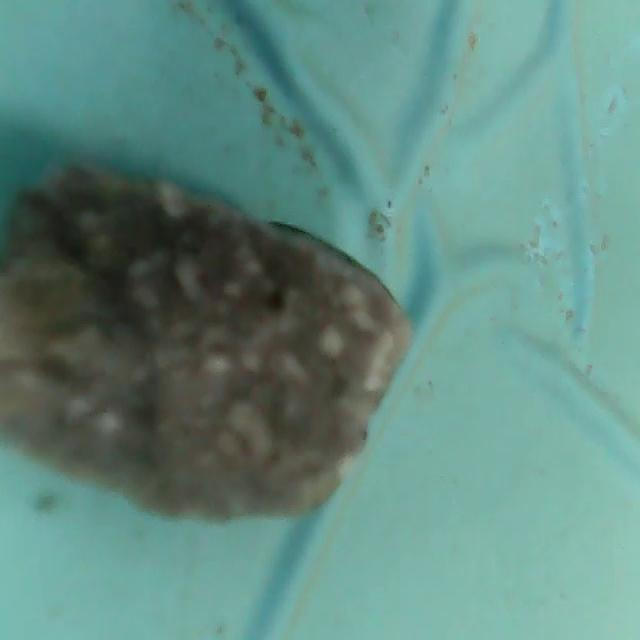rock: (1, 162, 426, 541)
